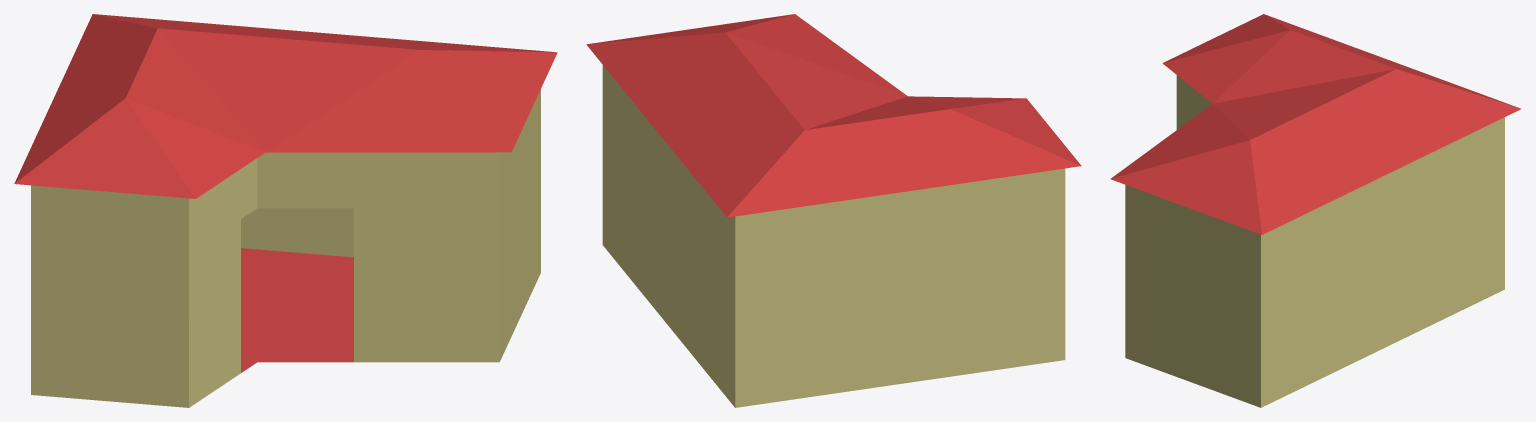
The picture shows the model from 3 angles, left to right: view 1: azimuth 30°, elevation 25°; view 2: azimuth 150°, elevation 25°; view 3: azimuth 270°, elevation 25°; orthographic projection. The views are drawn at different scales.
Bounding box in the file's own units: 21.9 × 17.24 × 9.98.
